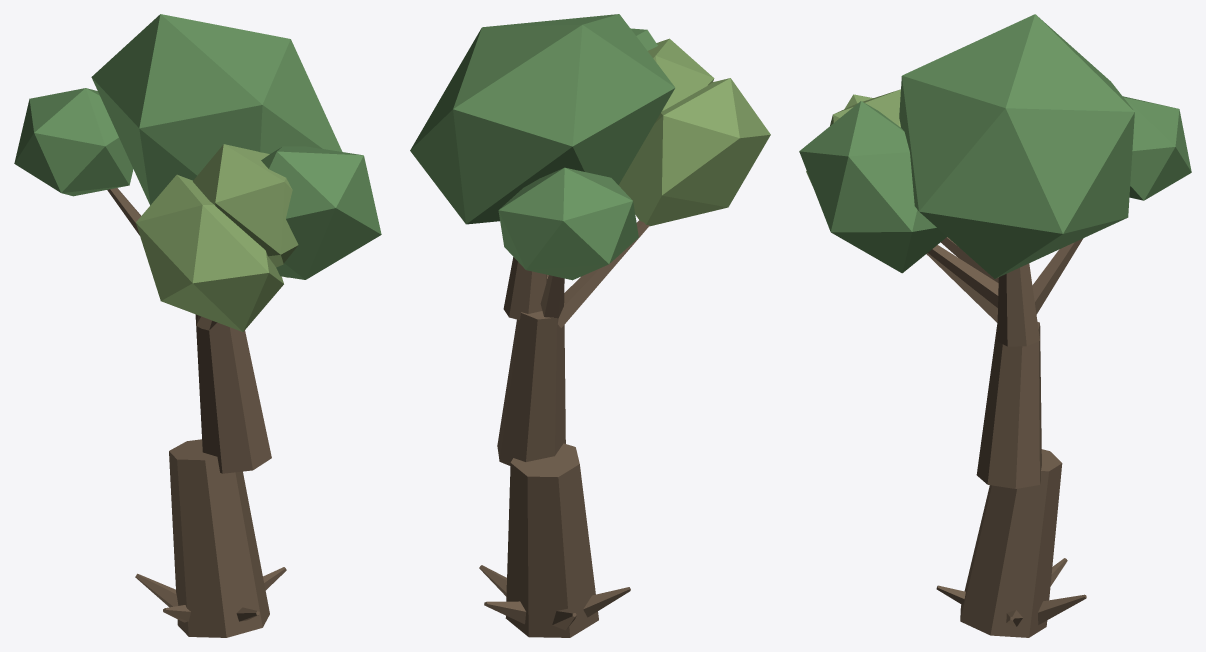
File: tree_old_b.glb
3 renders of one model, left to right at view 1: azimuth 30°, elevation 25°; view 2: azimuth 150°, elevation 25°; view 3: azimuth 270°, elevation 25°, orthographic. The views are drawn at different scales.
Visible parts, largest first — view 1: Leaf0_B, Trunk0_B, Leaf3_B, Leaf4_B, Leaf2_B, Trunk1_B, Leaf1_B, Root2_B, Branch1_B; view 2: Leaf0_B, Leaf3_B, Trunk0_B, Leaf2_B, Trunk1_B, Leaf1_B, Trunk2_B, Branch2_B, Branch1_B, Root3_B, Root1_B; view 3: Leaf0_B, Leaf4_B, Trunk0_B, Trunk1_B, Leaf2_B, Trunk2_B, Branch3_B, Branch1_B, Leaf1_B, Root1_B, Branch2_B.
Part boxes in pixels (x1,y1,x2,y2): Leaf0_B: (91, 14, 342, 205); Trunk0_B: (169, 439, 269, 637); Leaf3_B: (136, 174, 283, 331); Leaf4_B: (261, 146, 381, 279); Leaf2_B: (14, 88, 133, 196); Trunk1_B: (195, 314, 271, 473); Leaf1_B: (193, 144, 298, 277); Root2_B: (135, 573, 178, 607); Branch1_B: (107, 188, 140, 235); Leaf0_B: (410, 14, 675, 224); Leaf3_B: (618, 78, 770, 226); Trunk0_B: (505, 443, 598, 637); Leaf2_B: (498, 167, 638, 280); Trunk1_B: (497, 311, 565, 465); Leaf1_B: (648, 38, 714, 110); Trunk2_B: (503, 257, 547, 320); Branch2_B: (558, 220, 649, 328); Branch1_B: (540, 275, 564, 318); Root3_B: (583, 587, 630, 617); Root1_B: (484, 601, 526, 624); Leaf0_B: (899, 14, 1134, 278); Leaf4_B: (799, 101, 946, 273); Trunk0_B: (960, 449, 1062, 637); Trunk1_B: (976, 321, 1041, 488); Leaf2_B: (1123, 96, 1191, 200); Trunk2_B: (997, 263, 1039, 346); Branch3_B: (928, 245, 998, 307); Branch1_B: (1032, 238, 1083, 314); Leaf1_B: (830, 89, 900, 127); Root1_B: (1038, 594, 1086, 624); Branch2_B: (926, 253, 997, 322).
Bounding box in the file's own units: 3.71 × 8.9 × 5.31.
